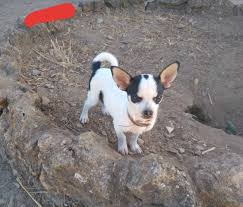chihuahua: (60, 44, 194, 161)
